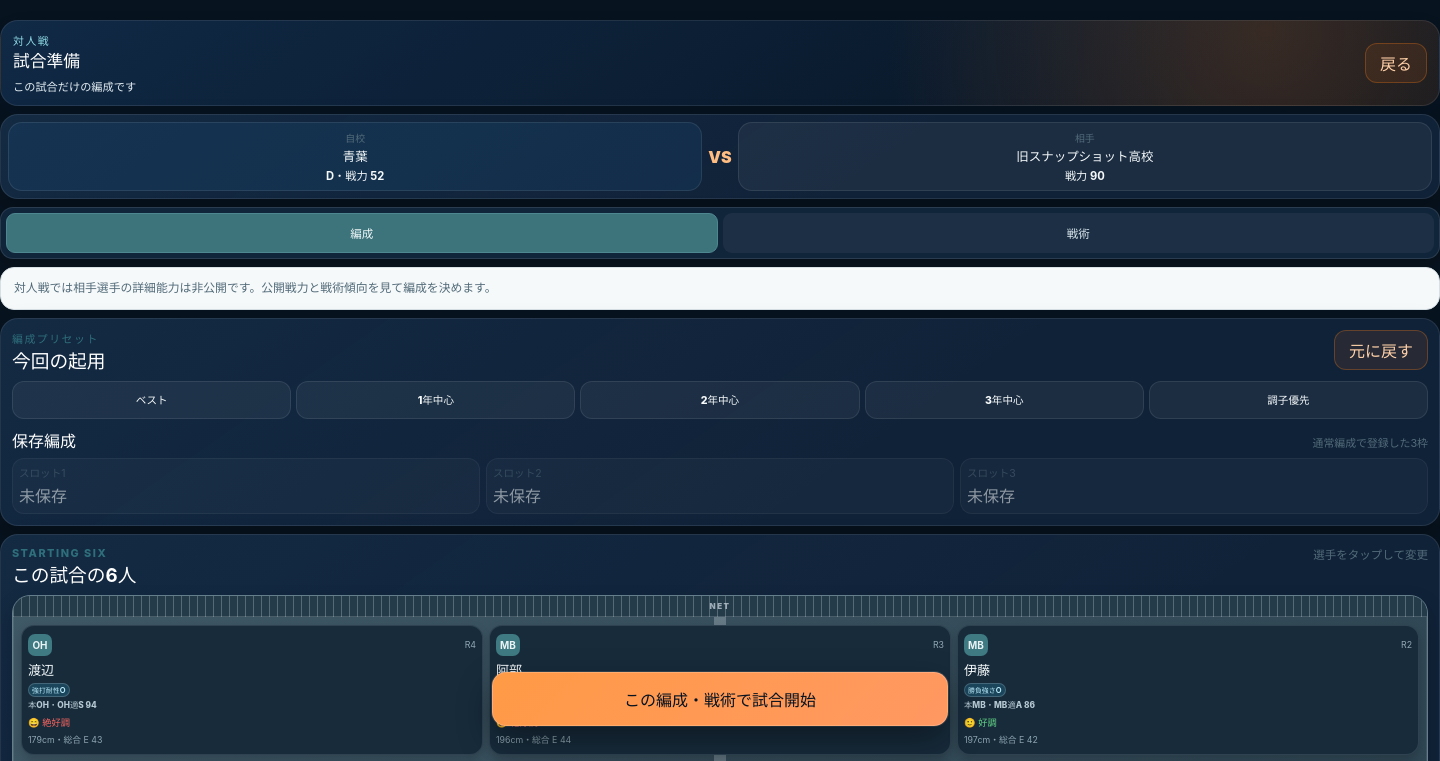
Test: PreMatchLineupScreen › does not guess legacy PvP tactics
Click the button "戦術" at (1078, 233), box [722,213,1434,253]
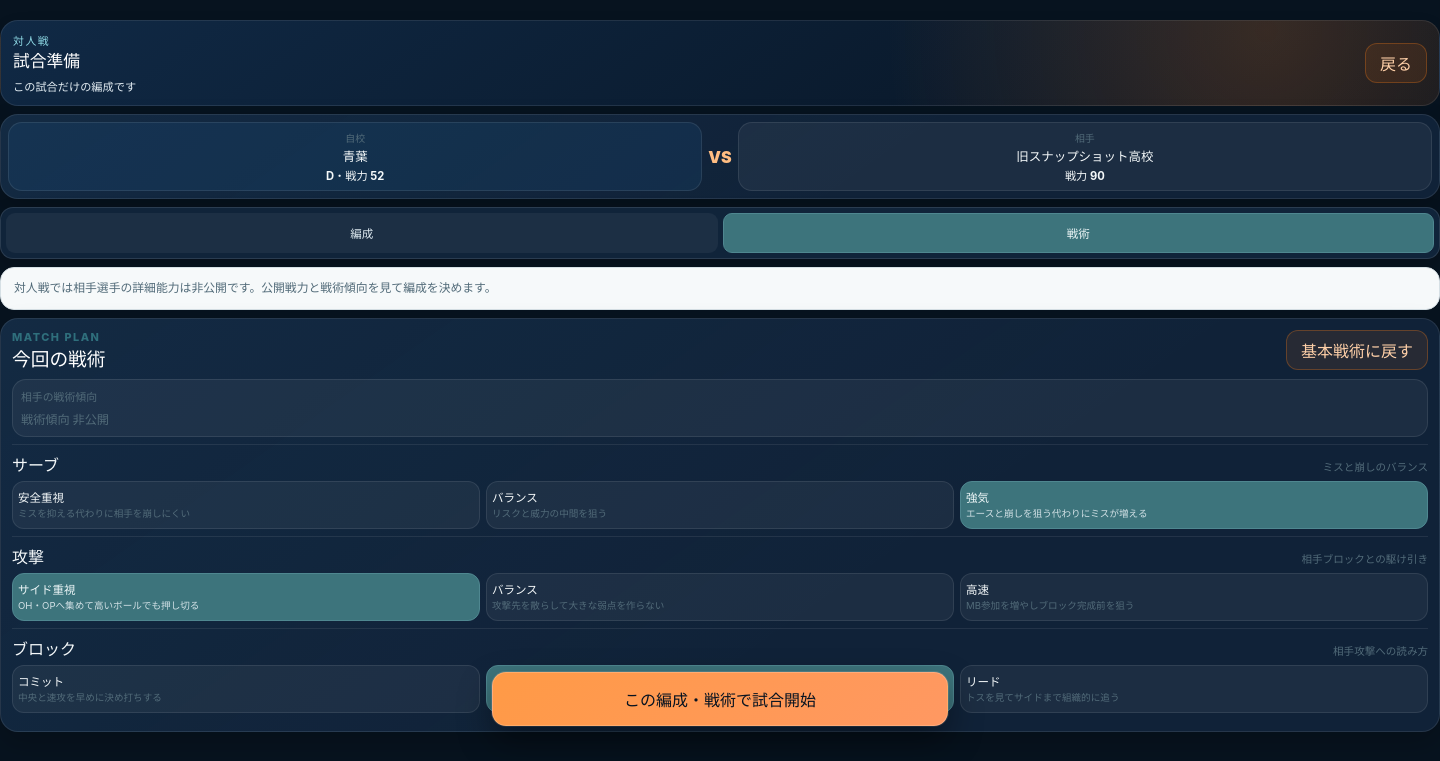
Now the text "戦術傾向 非公開" is shown, box [21,410,109,428]
